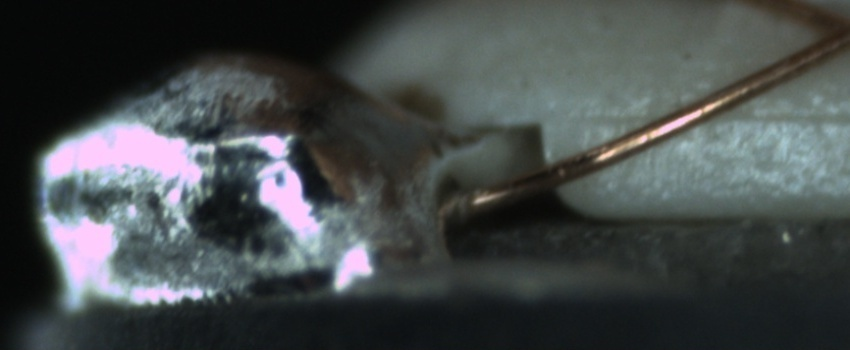CL: (799, 2, 850, 62)
DL: (573, 84, 847, 146)
